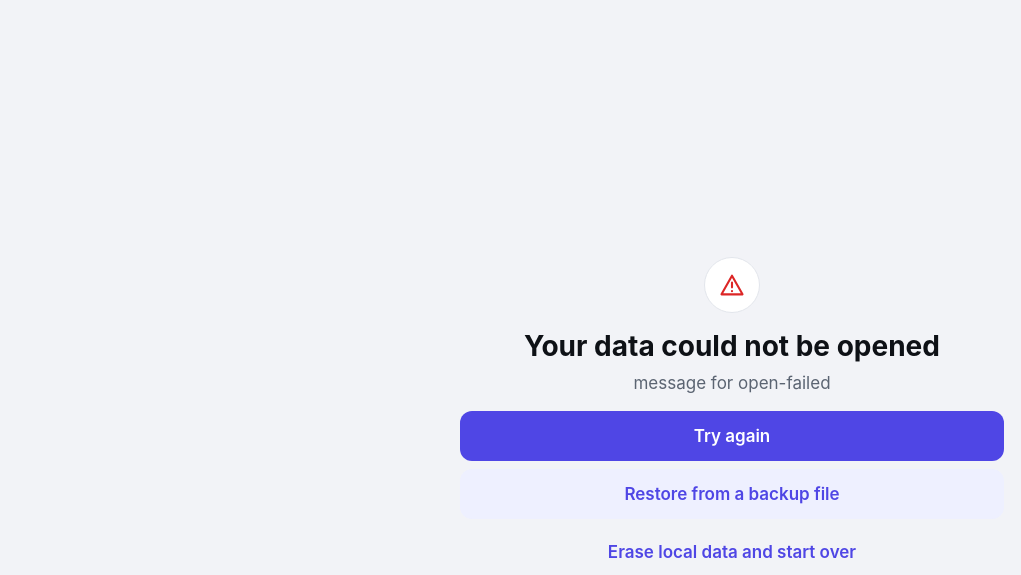
BootGate › never renders the app when recovery is needed; Try again re-runs boot
expect the message shows "message for open-failed": met, box [634,373,831,393]
expect the text "the app" is not shown: met
Click the button "Try again".
click(732, 436)  # box [460,411,1004,461]
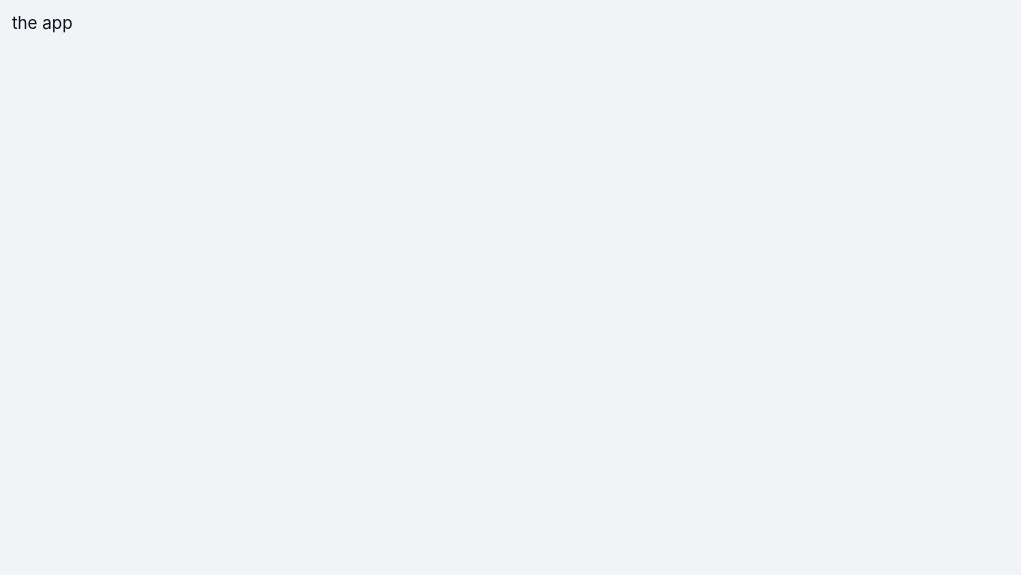
expect the text "the app" is shown: met, box [12,13,73,33]
